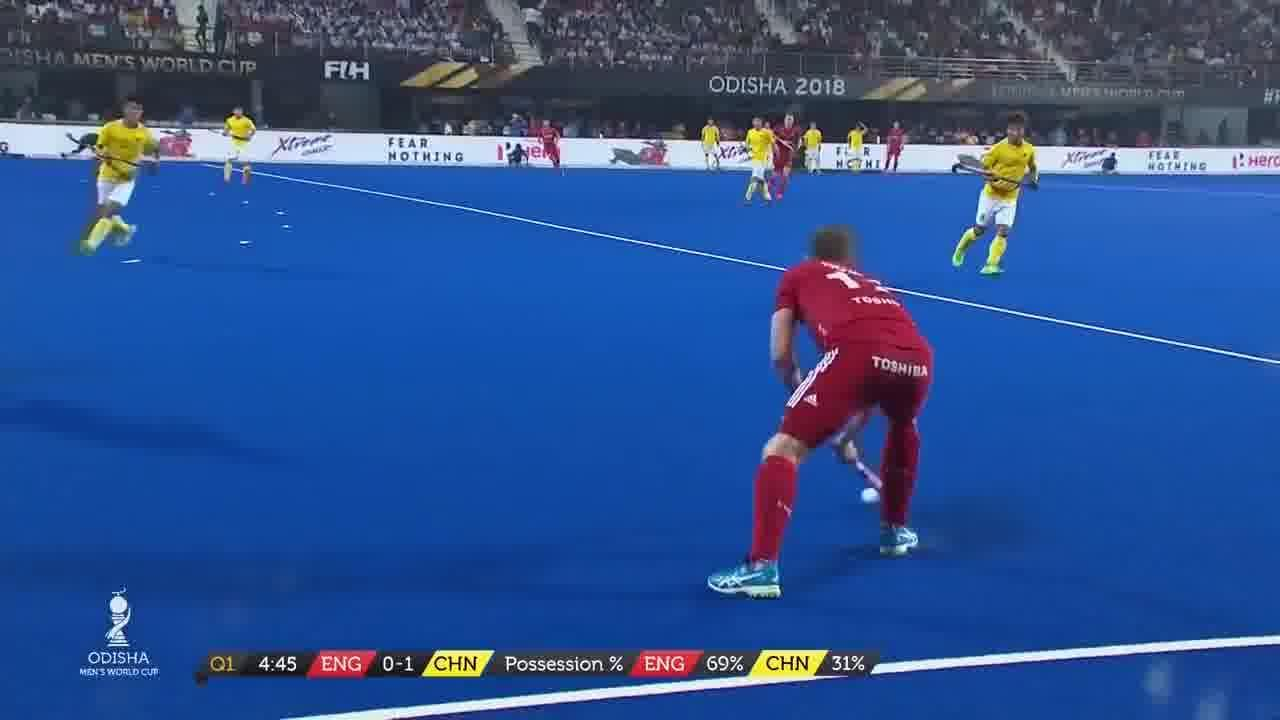ball: (848, 480, 878, 506)
